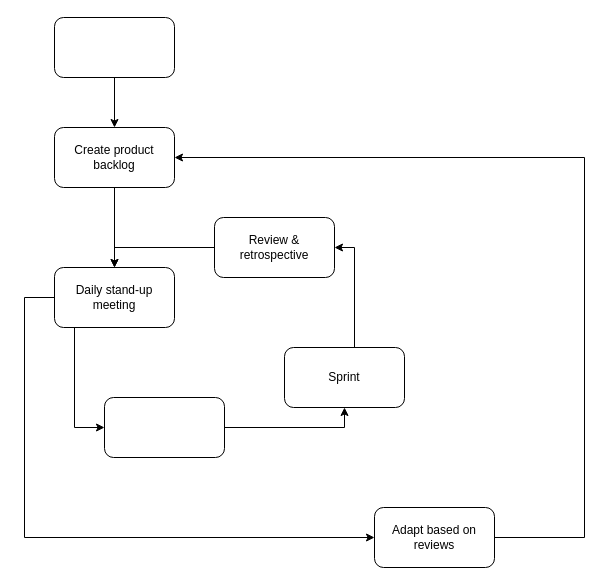
This 610x585 diagram has some shape labels left out. The shapes that lost their labels are listed below. From the top down, each one's centre as x and y in pixels, then its label:
point (114, 47): Define project scope
point (164, 427): Plan sprint
